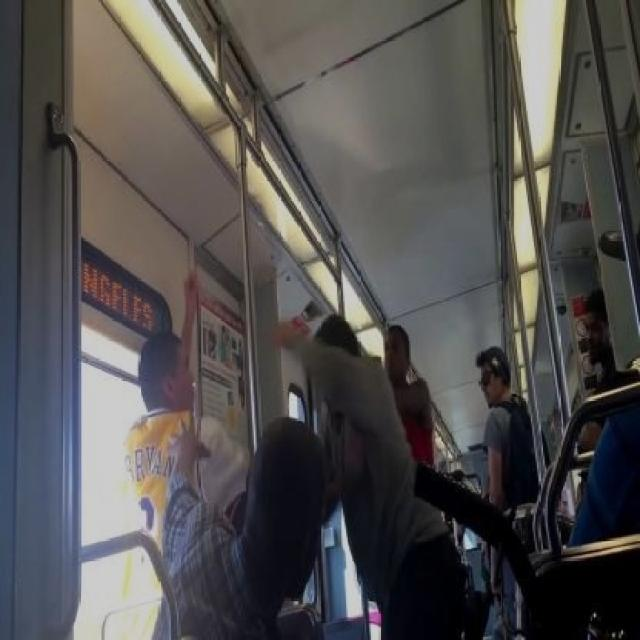fight: (117, 265, 477, 640)
non-fight: (477, 342, 545, 638), (377, 321, 442, 473)
